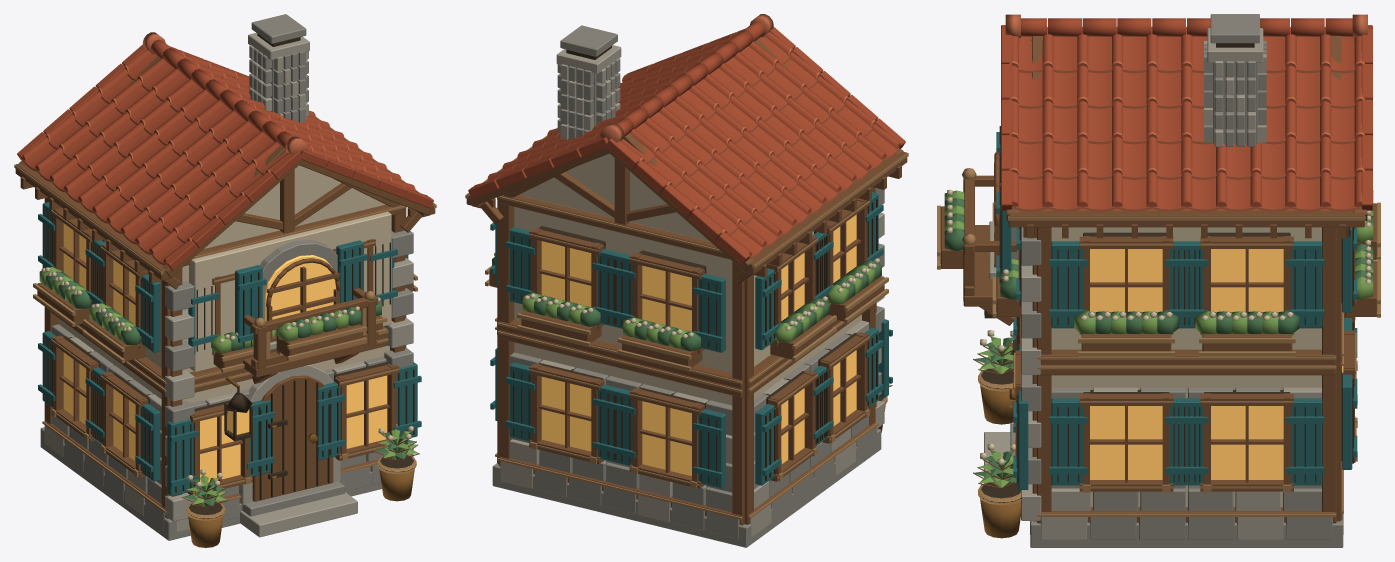
The picture shows the model from 3 angles, left to right: view 1: azimuth 30°, elevation 25°; view 2: azimuth 150°, elevation 25°; view 3: azimuth 270°, elevation 25°; orthographic projection. The views are drawn at different scales.
Parts seen in each view (by area): view 1: alpine_tower_2_geometry; view 2: alpine_tower_2_geometry; view 3: alpine_tower_2_geometry.
Part boxes in pixels (x1=…): alpine_tower_2_geometry: x1=14, y1=14, x2=436, y2=547; alpine_tower_2_geometry: x1=465, y1=14, x2=908, y2=547; alpine_tower_2_geometry: x1=937, y1=14, x2=1380, y2=547.
Size of the model in its own units: 0.882 by 1.16 by 0.9411.
